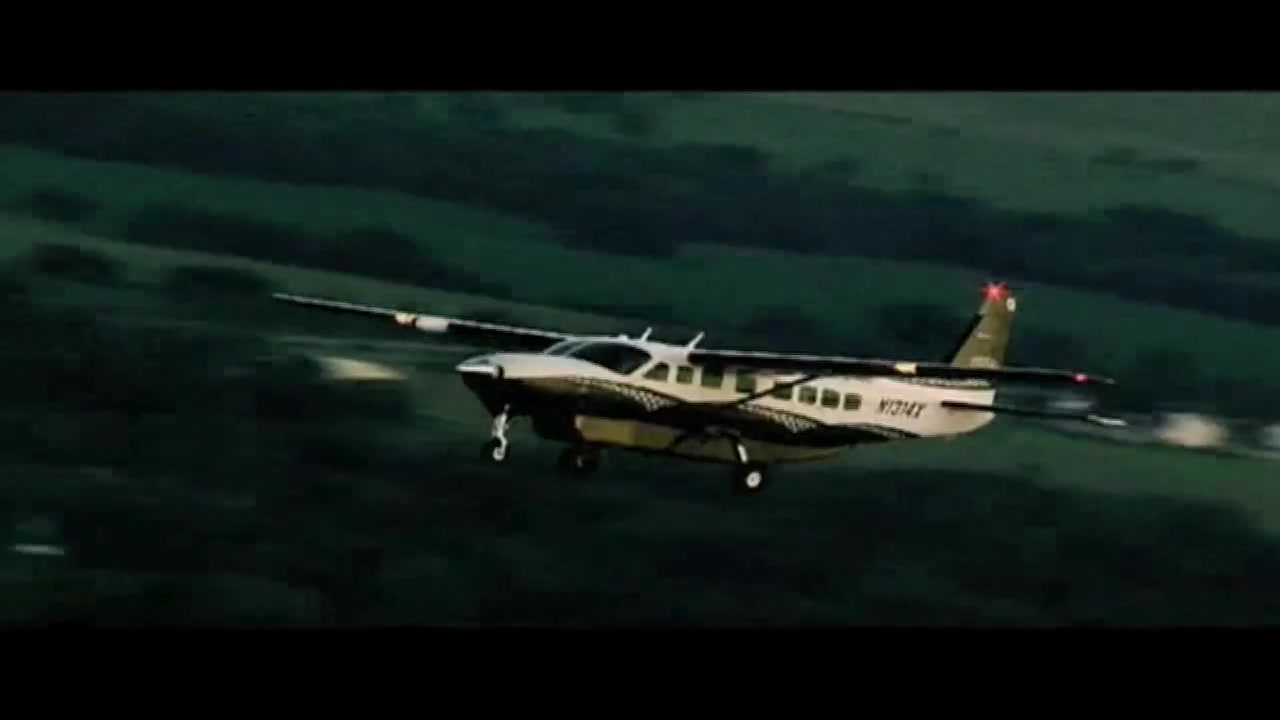aeroplane: (267, 282, 1130, 492)
